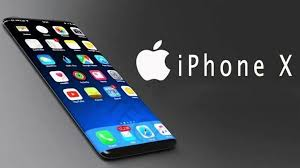iphone10: (1, 11, 177, 163)
